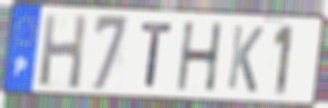1: (272, 23, 296, 98)
7: (91, 13, 131, 94)
H: (37, 12, 89, 93), (175, 20, 225, 94)
K: (225, 22, 266, 95)
T: (139, 21, 175, 90)
